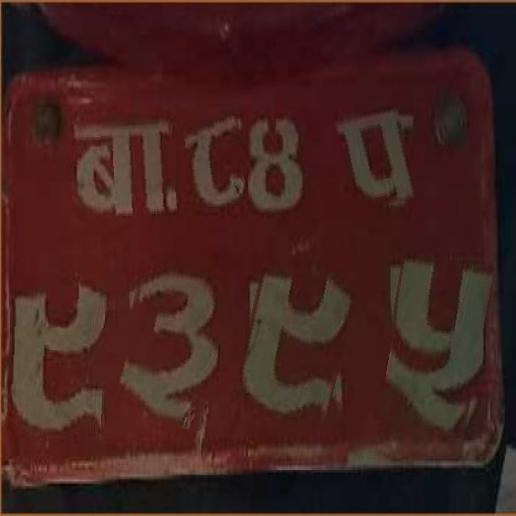3: (118, 263, 225, 428)
4: (247, 112, 304, 214)
5: (381, 256, 487, 432)
8: (185, 115, 247, 206)
9: (238, 263, 352, 420), (9, 279, 109, 433)
ba: (71, 115, 176, 229)
pa: (338, 107, 412, 209)
